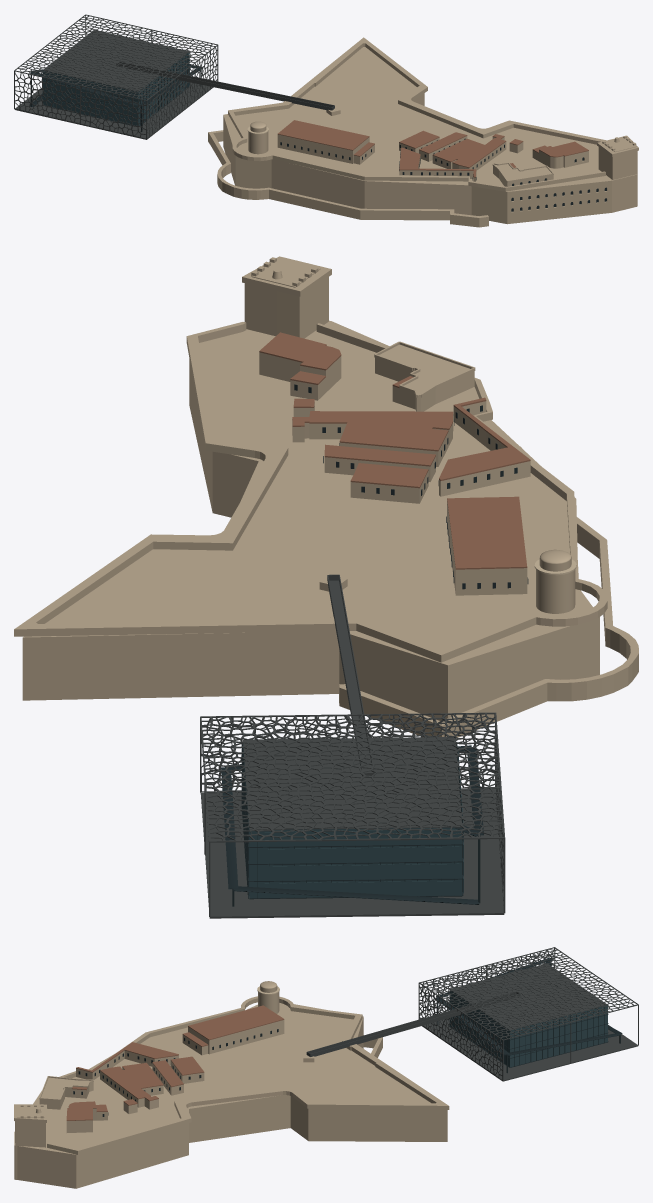
Rendered from mucem-near.glb.
The picture shows the model from 3 angles, top to bottom: view 1: azimuth 30°, elevation 25°; view 2: azimuth 150°, elevation 25°; view 3: azimuth 270°, elevation 25°; orthographic projection. The views are drawn at different scales.
Visible parts, largest first — view 1: mucem-0-stone, mucem-0-lattice, mucem-0-roof, mucem-0-frame, mucem-0-glow, mucem-0-glass; view 2: mucem-0-stone, mucem-0-lattice, mucem-0-roof, mucem-0-glow, mucem-0-frame, mucem-0-glass; view 3: mucem-0-stone, mucem-0-lattice, mucem-0-roof, mucem-0-glass, mucem-0-frame.
Boxes of the visible parts, x1,y1,x2,y2 form: mucem-0-stone: (208,37,638,227); mucem-0-lattice: (14,14,334,139); mucem-0-roof: (278,120,588,177); mucem-0-frame: (30,54,606,211); mucem-0-glow: (43,72,130,124); mucem-0-glass: (42,53,189,125); mucem-0-stone: (14,256,638,737); mucem-0-lattice: (200,574,505,918); mucem-0-roof: (259,332,530,569); mucem-0-glow: (264,746,463,897); mucem-0-frame: (221,384,528,906); mucem-0-glass: (243,743,462,898); mucem-0-stone: (14,981,449,1188); mucem-0-lattice: (306,947,638,1081); mucem-0-roof: (66,1005,284,1120); mucem-0-glass: (449,991,607,1067); mucem-0-frame: (73,958,622,1116).
Size of the model in its own units: 214 by 33 by 283.
